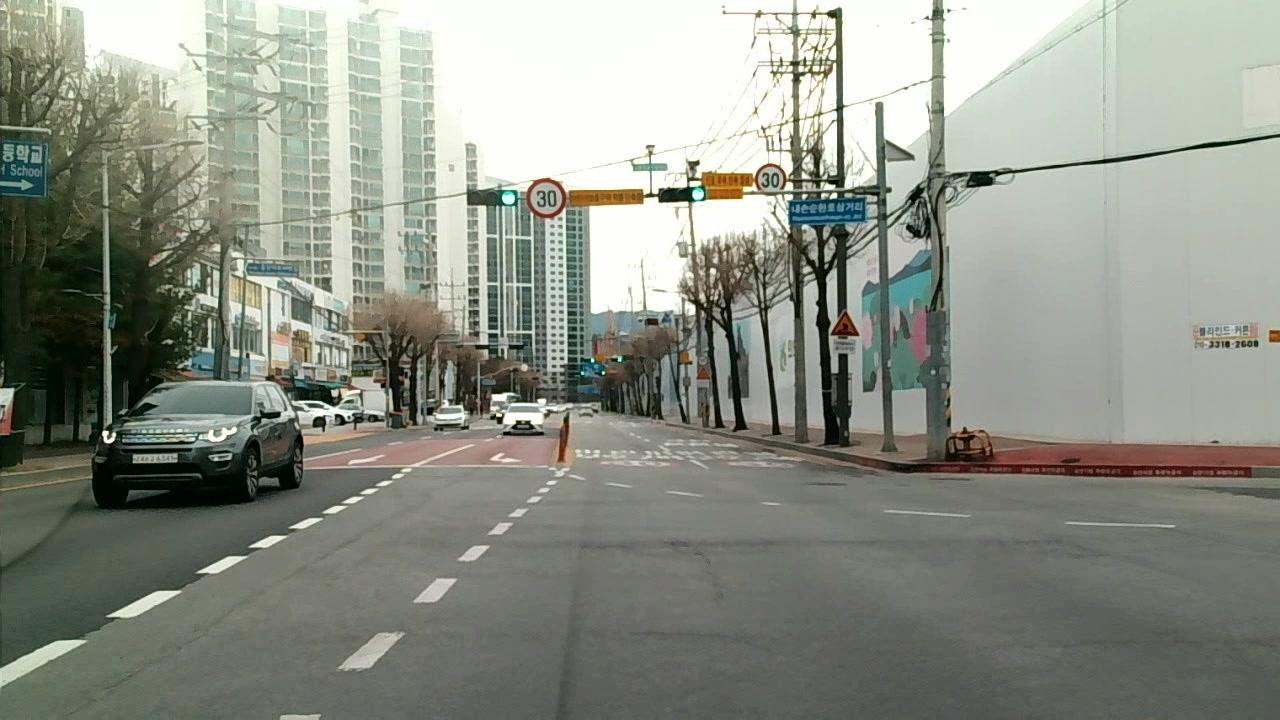vcrack: (71, 638, 185, 720), (676, 539, 725, 601)
